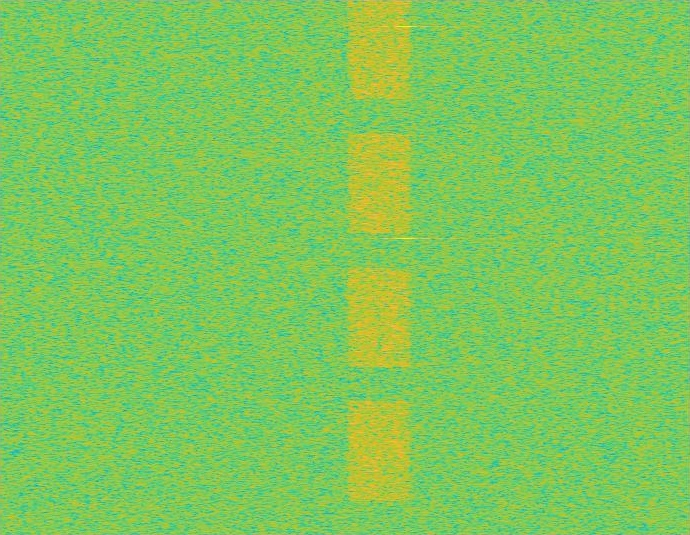5G: (345, 0, 414, 534)
Radar: (399, 0, 412, 534)
